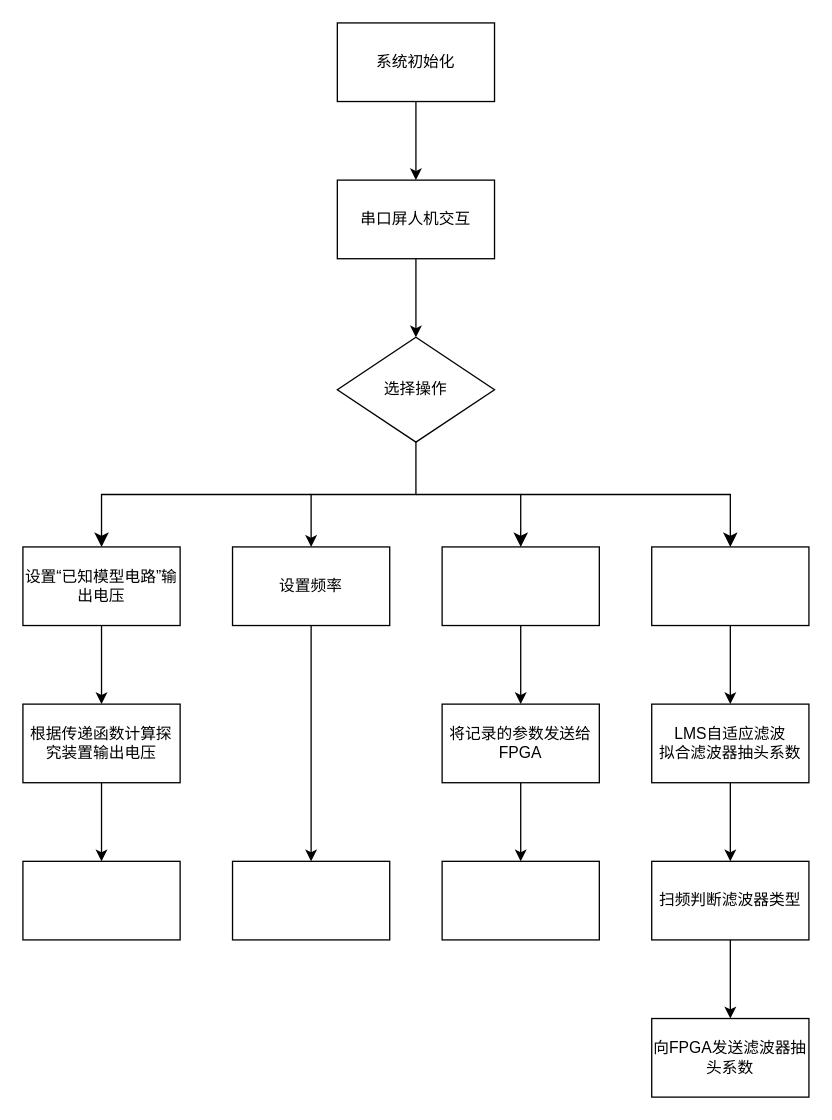
Some shapes in this 832 by 1120 pixel diagram are drawn without their labels. The centre of each missing label's shape, as x and y in pixels:
一键启动: the point at 520,586
学习未知电路: the point at 729,586
装置启动: the point at 520,900
记录电压参数: the point at 101,900
记录频率参数: the point at 310,900
